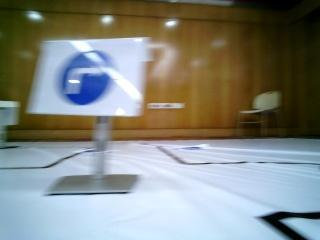right: (46, 44, 129, 109)
